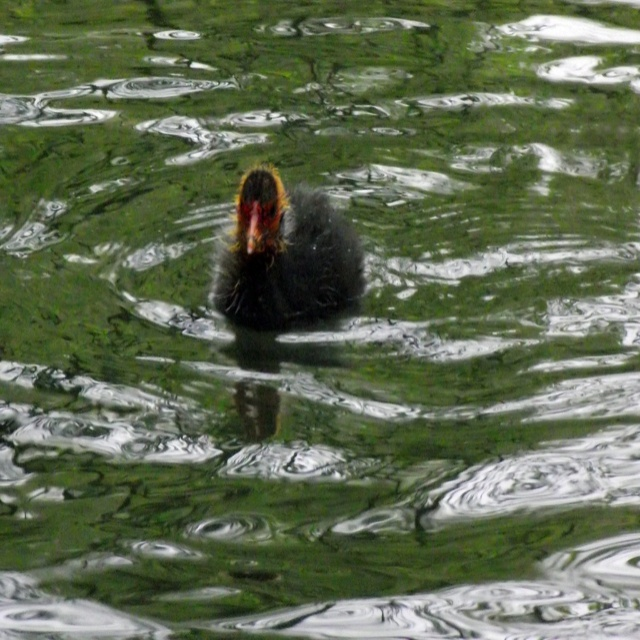Duck: (207, 161, 366, 334)
